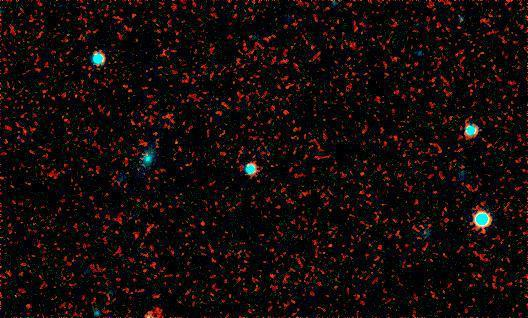star: (164, 129, 194, 159)
